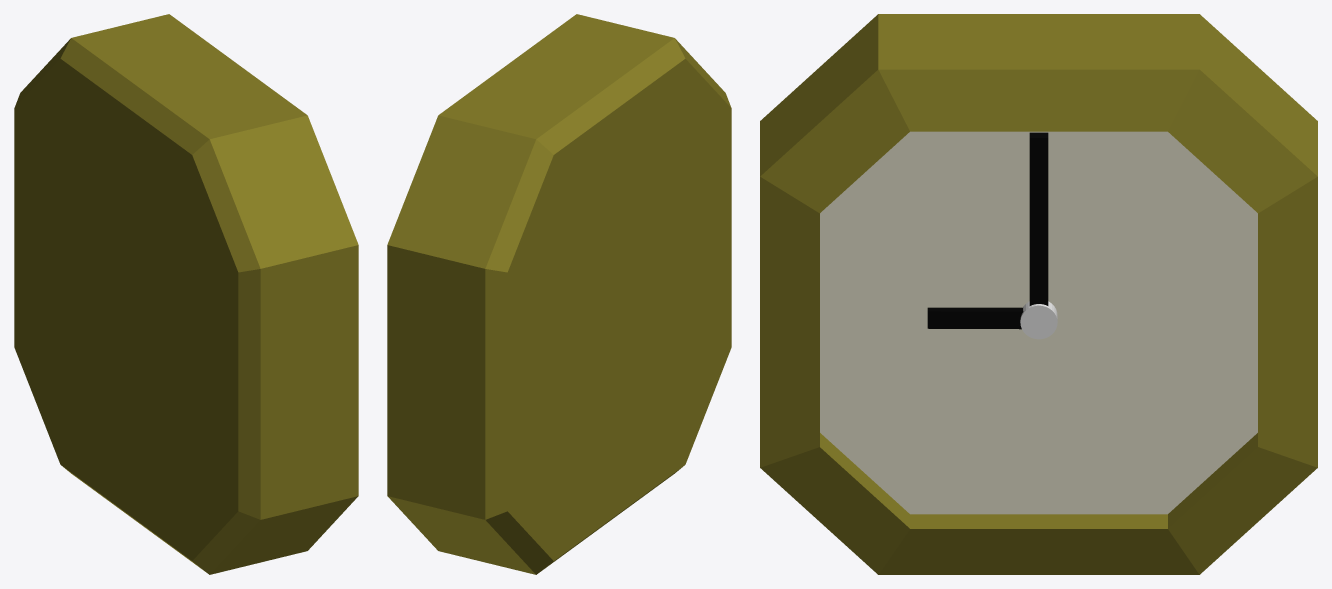
The model's file is clock3.fbx.
3 views of the same model, side by side, from view 1: azimuth 30°, elevation 25°; view 2: azimuth 150°, elevation 25°; view 3: azimuth 270°, elevation 25° (orthographic). The views are drawn at different scales.
Parts seen in each view (by area): view 1: Cube; view 2: Cube; view 3: Cube.003, Cube, Cube.001, Cube.002, Cylinder.
Part boxes in pixels (x1,y1,x2,y2): Cube: [14, 14, 358, 574]; Cube: [387, 14, 731, 574]; Cube.003: [820, 131, 1257, 514]; Cube: [760, 14, 1317, 574]; Cube.001: [1029, 132, 1048, 305]; Cube.002: [927, 307, 1023, 329]; Cylinder: [1020, 301, 1057, 339].
Bounding box in the file's own units: 18.2 × 60 × 60.
